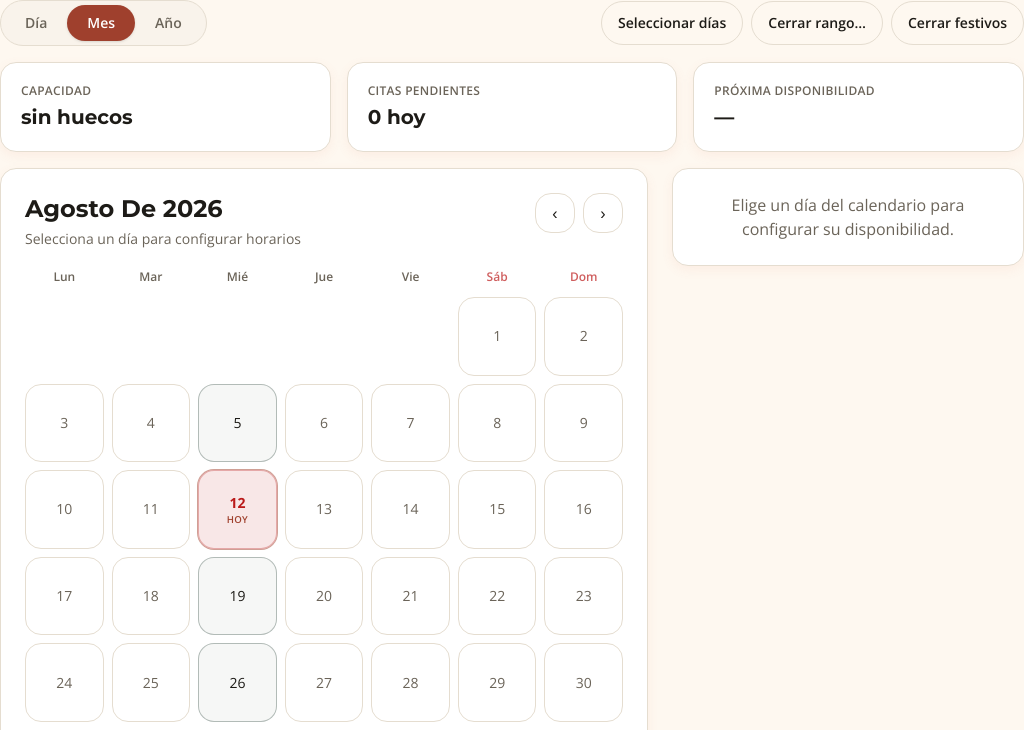
Test: AgendaCliente › si resetear falla muestra el feedback de error
This screenshot has width=1024, height=730.
Click the cell "12 Hoy" at (237, 510), box x1=198 y1=470 x2=277 y2=549
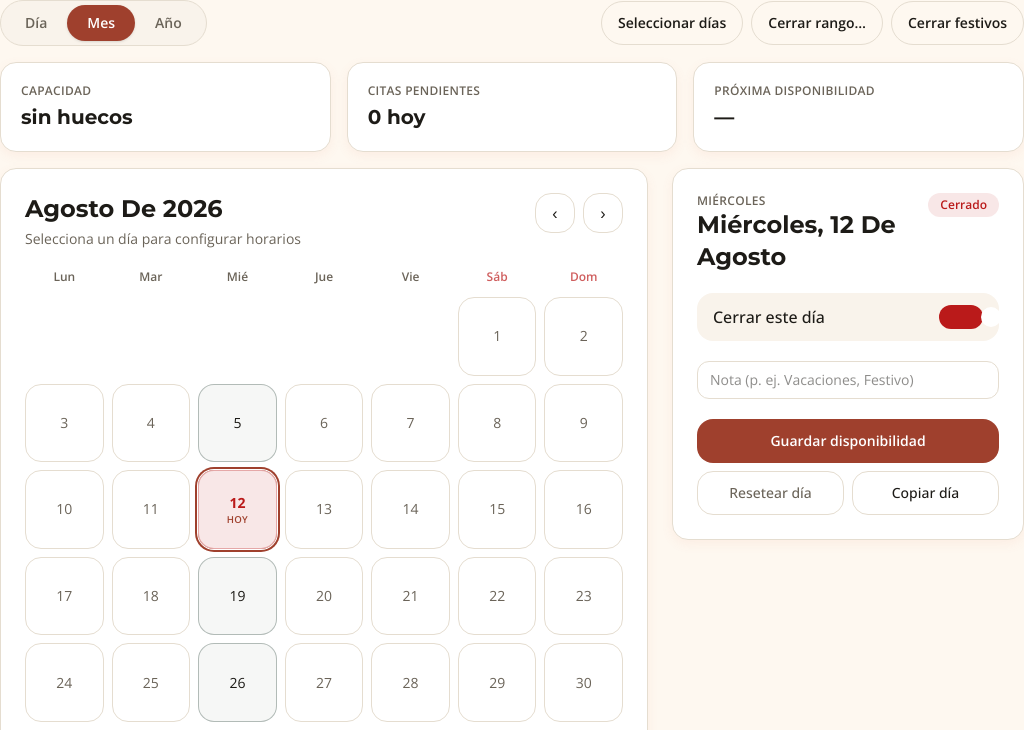
Click the button "Resetear día" at (770, 493), box x1=697 y1=471 x2=844 y2=515
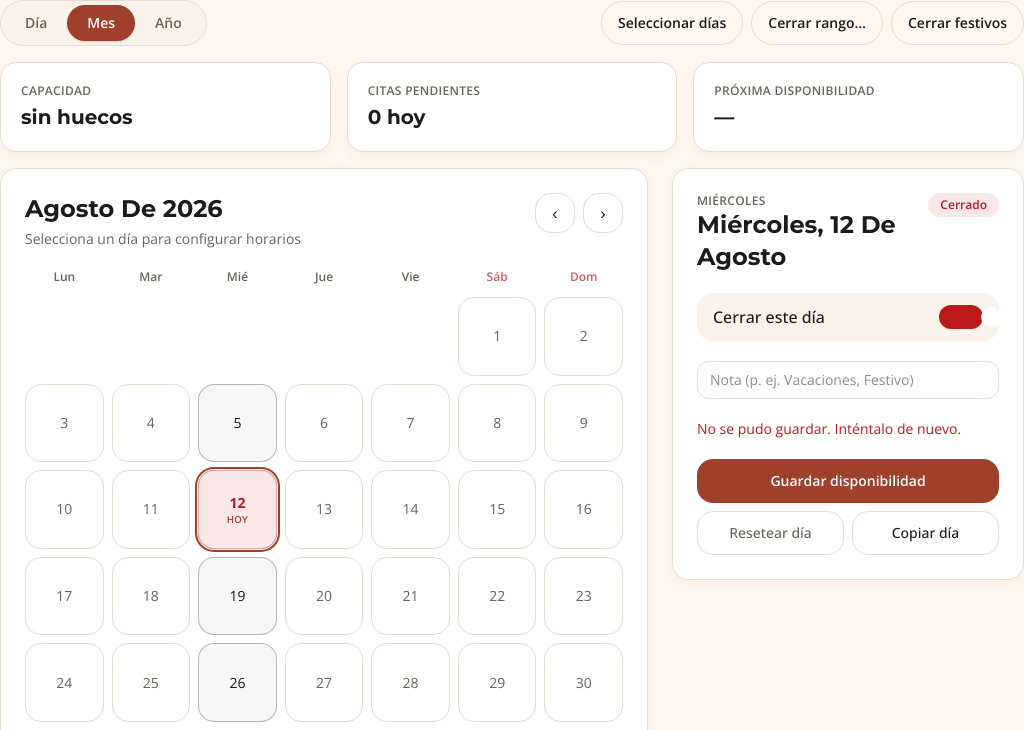
Now the text "No se pudo guardar. Inténtalo de nuevo." is shown, box x1=697 y1=419 x2=999 y2=439
